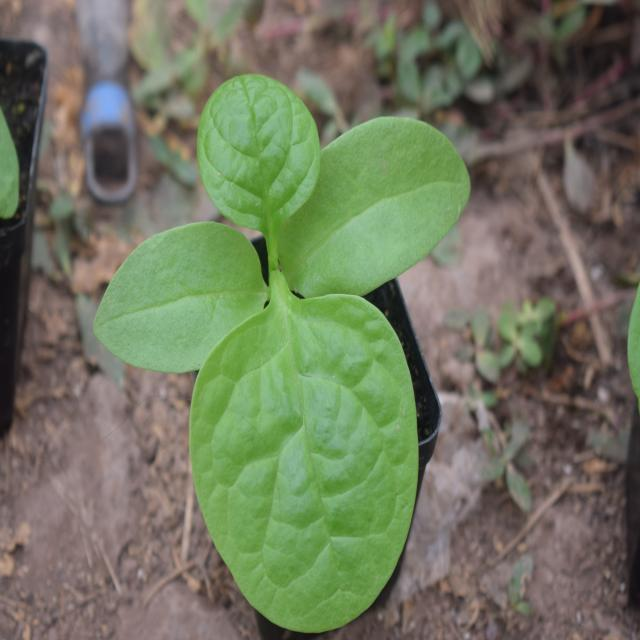Ceylon spinach: (114, 44, 448, 594)
